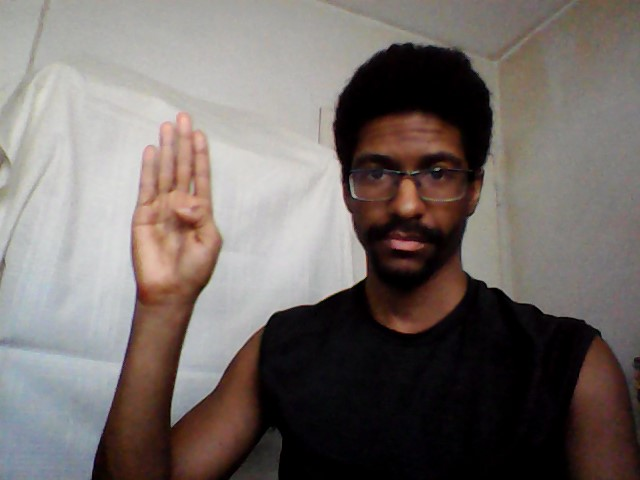b: (125, 107, 226, 314)
